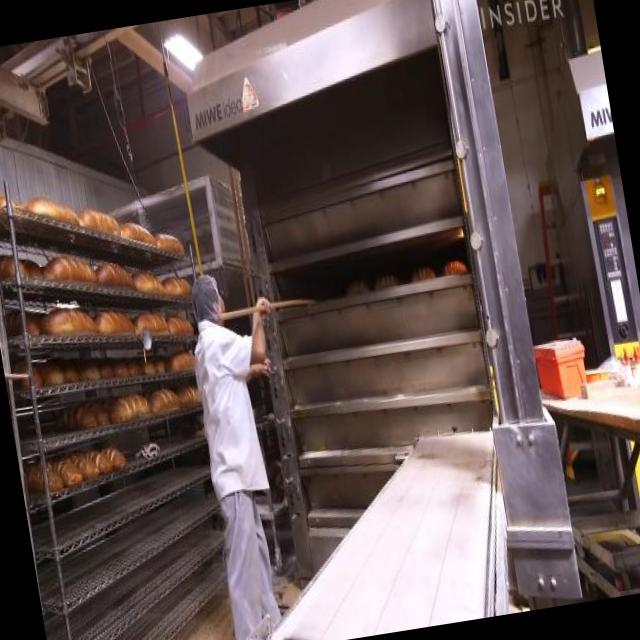hairnet: (190, 272, 224, 326)
